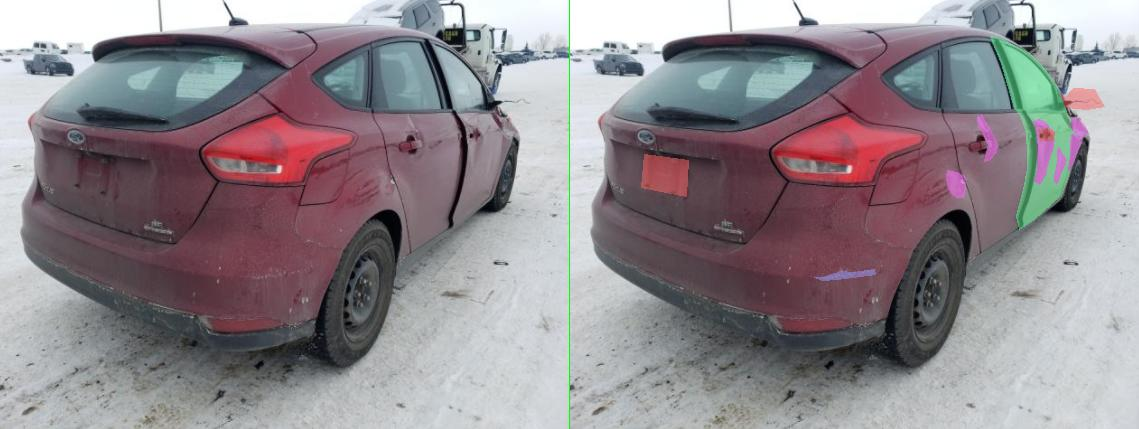Broken part: (841, 36, 1019, 229)
Dent: (927, 119, 969, 184), (815, 114, 855, 161), (753, 170, 791, 197), (997, 134, 1023, 170), (969, 147, 993, 183), (1003, 117, 1035, 139)
Missing part: (142, 154, 236, 196), (967, 85, 1069, 109), (937, 128, 969, 140)
Scratch: (488, 269, 611, 280)
